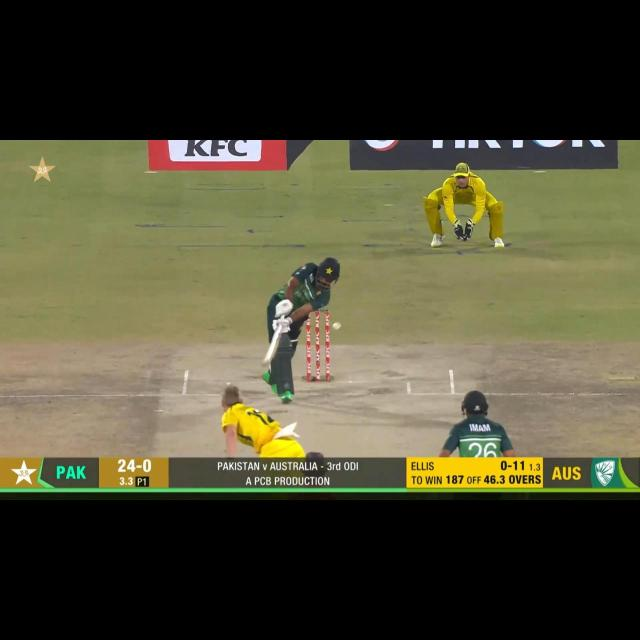bat: (263, 324, 284, 366)
toe: (261, 356, 272, 367)
